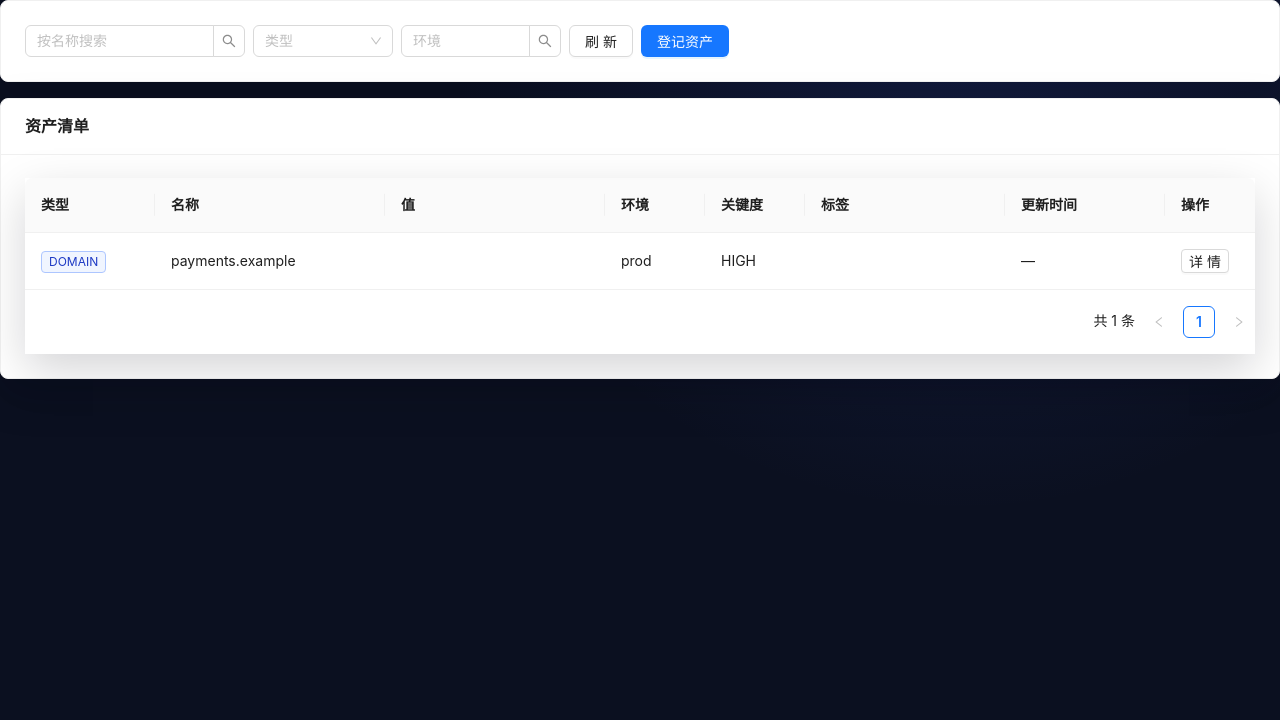
Test case: Assets › shows a retryable error rather than an endless loading spinner in the drawer
Expected: the text "payments.example" is shown, left=155, top=233, right=385, bottom=290
Click the button "详 情". click: x=1205, y=261
box: left=1181, top=249, right=1229, bottom=273
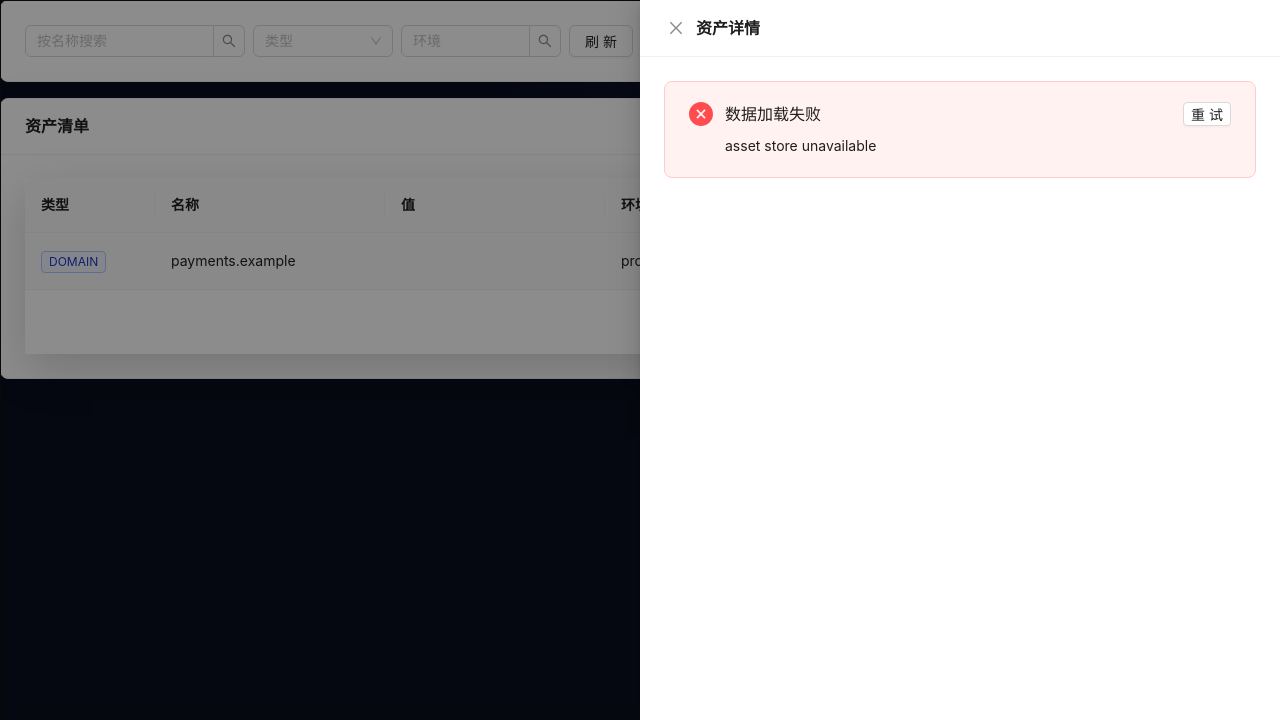
Expected: the dialog does not show "加载中…", left=640, top=0, right=1279, bottom=719
Expected: the dialog shows "数据加载失败", left=725, top=104, right=821, bottom=124
Expected: the button named "重试" is shown, left=1183, top=102, right=1231, bottom=126
